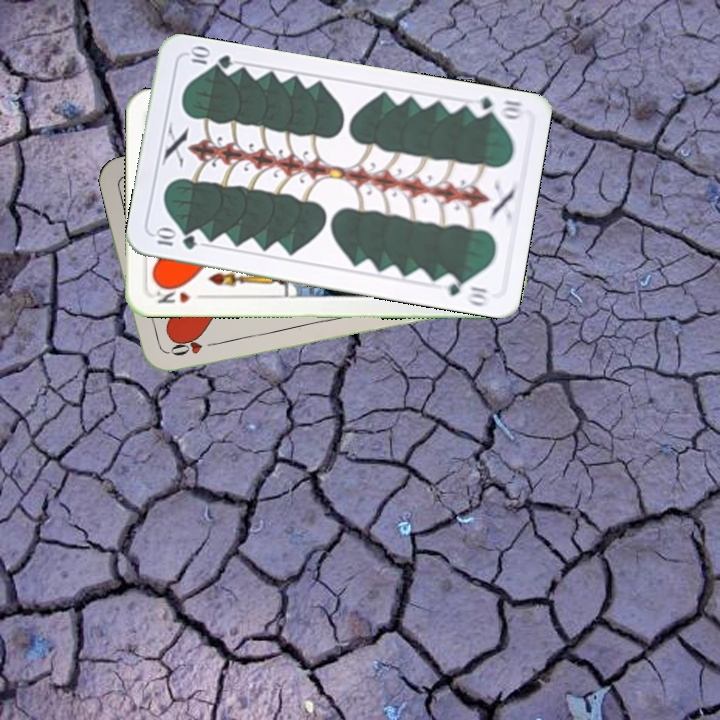G10: (465, 92, 527, 123), (150, 225, 199, 252)
HK: (149, 282, 208, 307)
HO: (163, 337, 222, 359)
